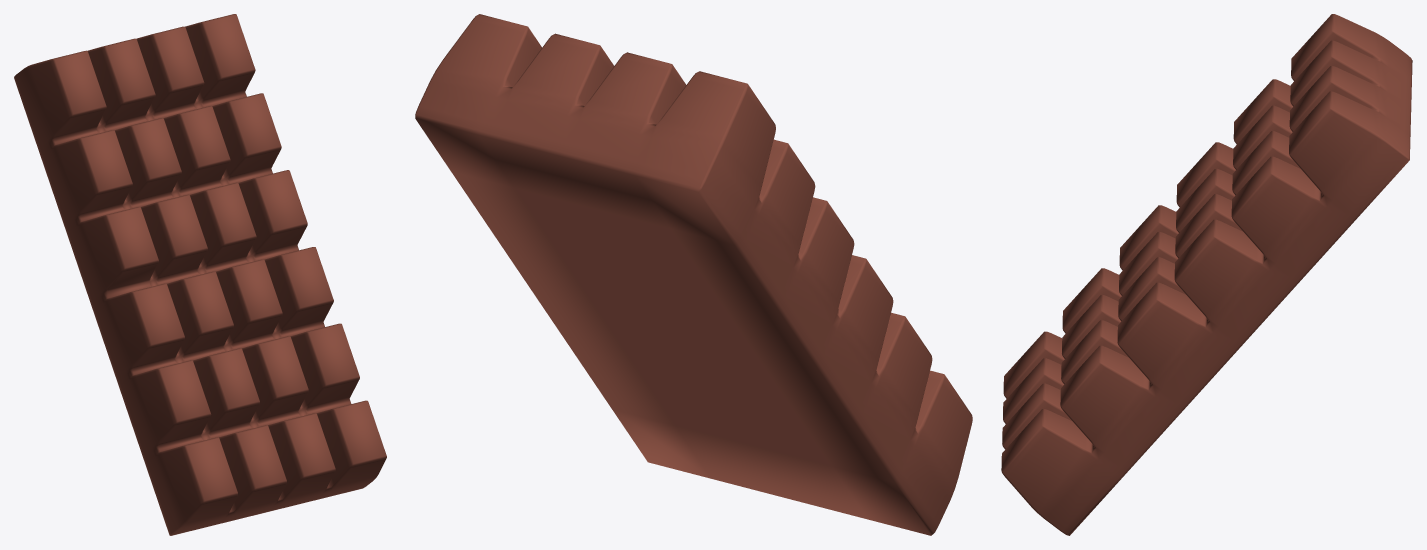
Rendered from chocolate.glb.
3 renders of one model, left to right at view 1: azimuth 30°, elevation 25°; view 2: azimuth 150°, elevation 25°; view 3: azimuth 270°, elevation 25°, orthographic. The views are drawn at different scales.
Parts seen in each view (by area): view 1: Chocolate_milk; view 2: Chocolate_milk; view 3: Chocolate_milk.
Boxes of the visible parts, box(x1,y1,x2,y2) form: Chocolate_milk: box(14, 14, 386, 535); Chocolate_milk: box(415, 14, 972, 535); Chocolate_milk: box(1001, 14, 1412, 535).
Bounding box in the file's own units: 1.16 × 2.23 × 1.95.
